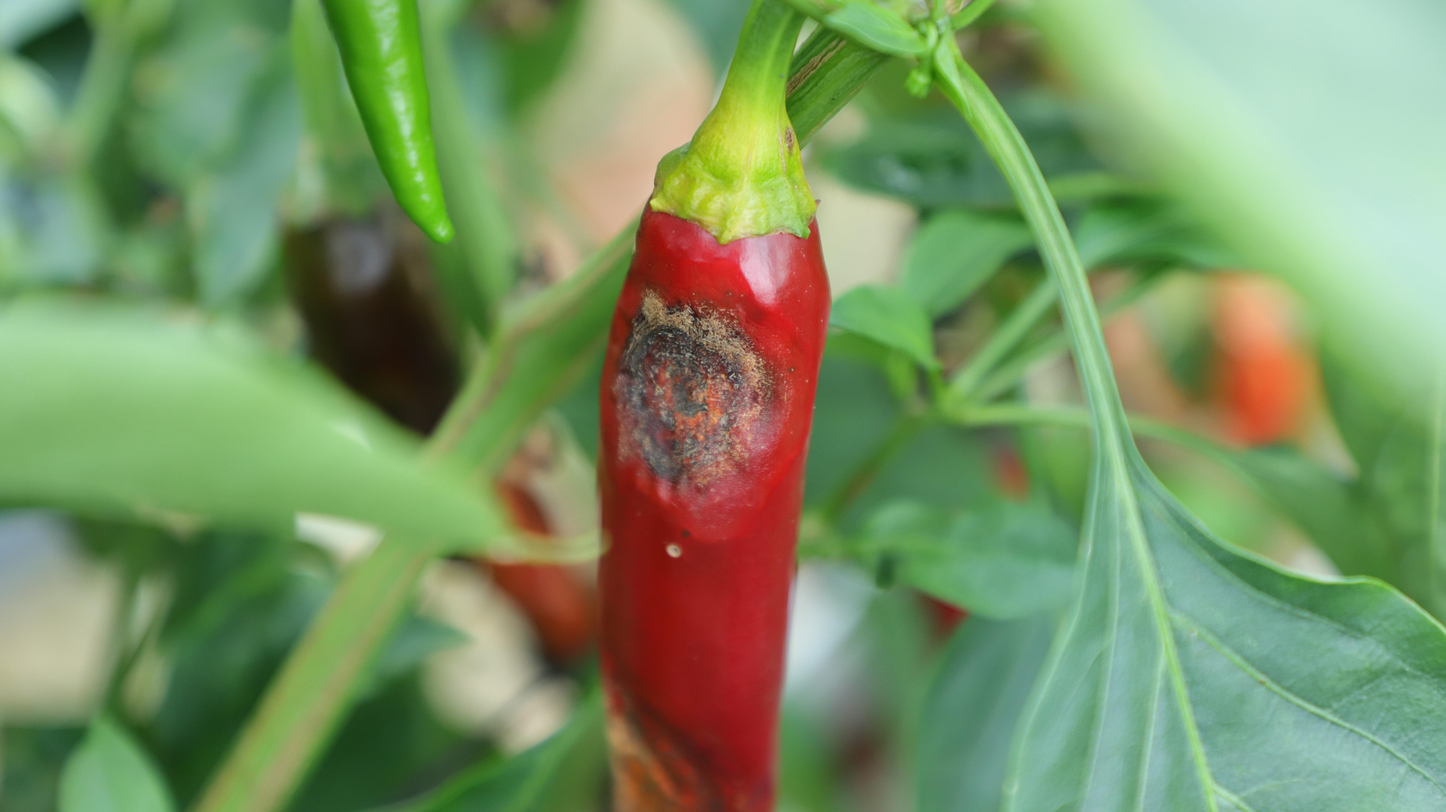Busuk Buah Antraknosa: (586, 124, 831, 812)
